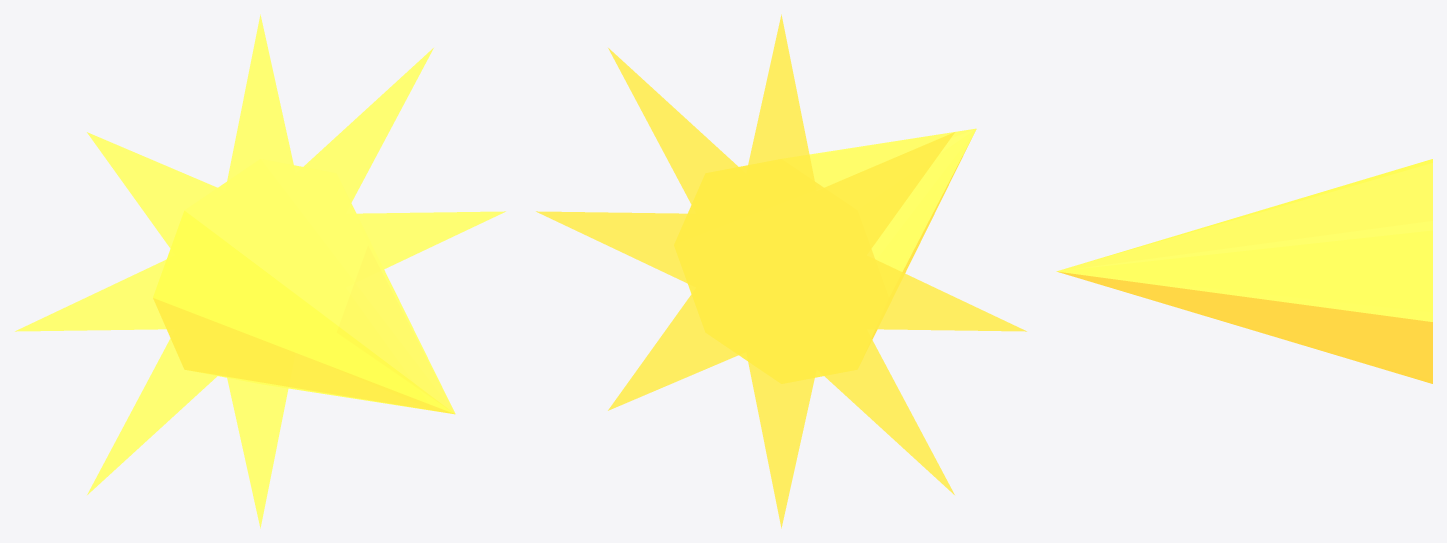
File: muzzle-flash.glb
3 views of the same model, side by side, from view 1: azimuth 30°, elevation 25°; view 2: azimuth 150°, elevation 25°; view 3: azimuth 270°, elevation 25° (orthographic). The views are drawn at different scales.
Parts seen in each view (by area): view 1: muzzle-flash; view 2: muzzle-flash; view 3: muzzle-flash.
Boxes of the visible parts, box(x1,y1,x2,y2) form: muzzle-flash: box(15, 14, 505, 528); muzzle-flash: box(536, 14, 1026, 528); muzzle-flash: box(1056, 159, 1432, 383).
Bounding box in the file's own units: 0.32 × 0.32 × 0.22.
